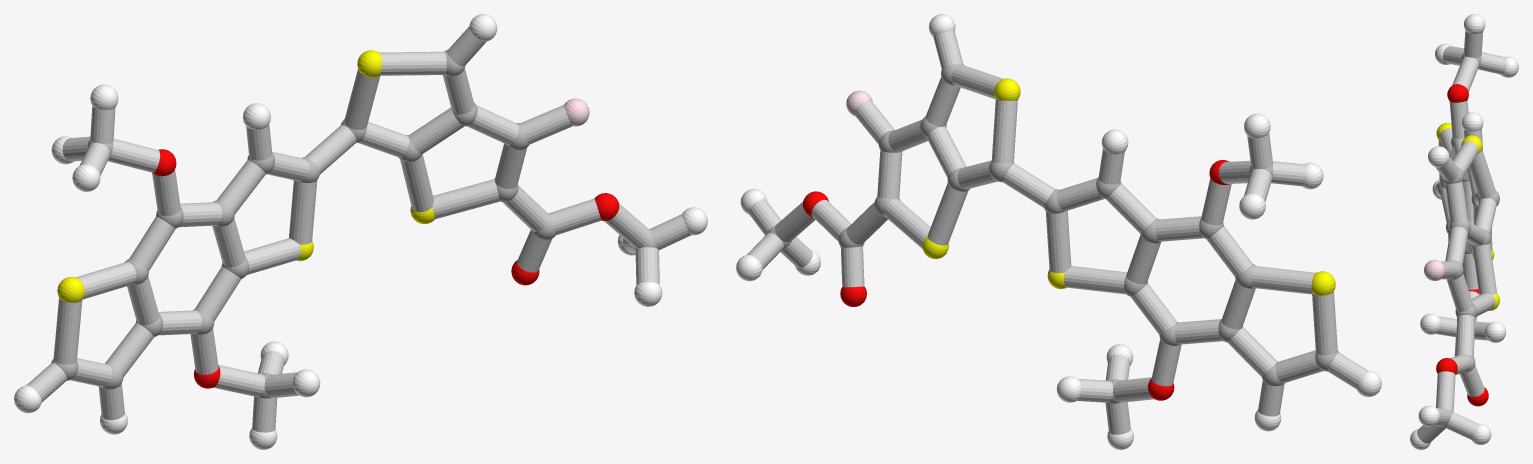
File: Dimethoxy_Benzodithiophene_Phi_30_Theta_0_Methylcarbonyl_3_Fluoro_Thienothiophene.glb
3 renders of one model, left to right at view 1: azimuth 30°, elevation 25°; view 2: azimuth 150°, elevation 25°; view 3: azimuth 270°, elevation 25°, orthographic. The views are drawn at different scales.
Parts seen in each view (by area): view 1: grp15205, grp8689, grp1, grp13395, grp7241; view 2: grp15205, grp8689, grp1, grp7241, grp13395; view 3: grp15205, grp8689, grp1, grp13395, grp7241, grp14843.
Part boxes in pixels (x1=…): grp15205: x1=26, y1=26, x2=691, y2=432; grp8689: x1=14, y1=14, x2=707, y2=449; grp1: x1=51, y1=50, x2=657, y2=398; grp13395: x1=152, y1=149, x2=619, y2=388; grp7241: x1=57, y1=50, x2=434, y2=302; grp15205: x1=747, y1=31, x2=1367, y2=434; grp8689: x1=736, y1=14, x2=1381, y2=449; grp1: x1=767, y1=63, x2=1338, y2=403; grp7241: x1=922, y1=78, x2=1335, y2=295; grp13395: x1=802, y1=160, x2=1229, y2=400; grp15205: x1=1417, y1=30, x2=1506, y2=443; grp8689: x1=1410, y1=14, x2=1518, y2=449; grp1: x1=1438, y1=53, x2=1499, y2=428; grp13395: x1=1436, y1=84, x2=1488, y2=406; grp7241: x1=1436, y1=123, x2=1499, y2=310; grp14843: x1=1424, y1=259, x2=1445, y2=280.
Size of the model in its own units: 16.74 by 9.29 by 3.03.
